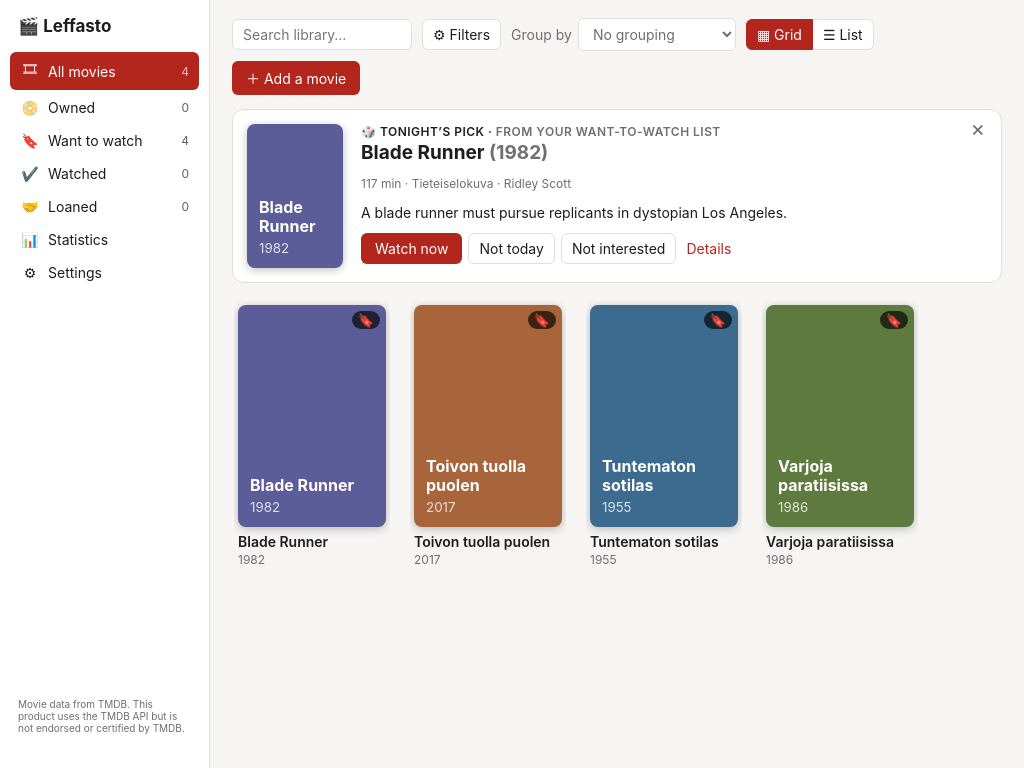
Test case: Tonight's pick › Not interested removes it from the want list; Watch now marks it watched
Click the button "Not interested" at [619, 248], box [561,233,676,264]
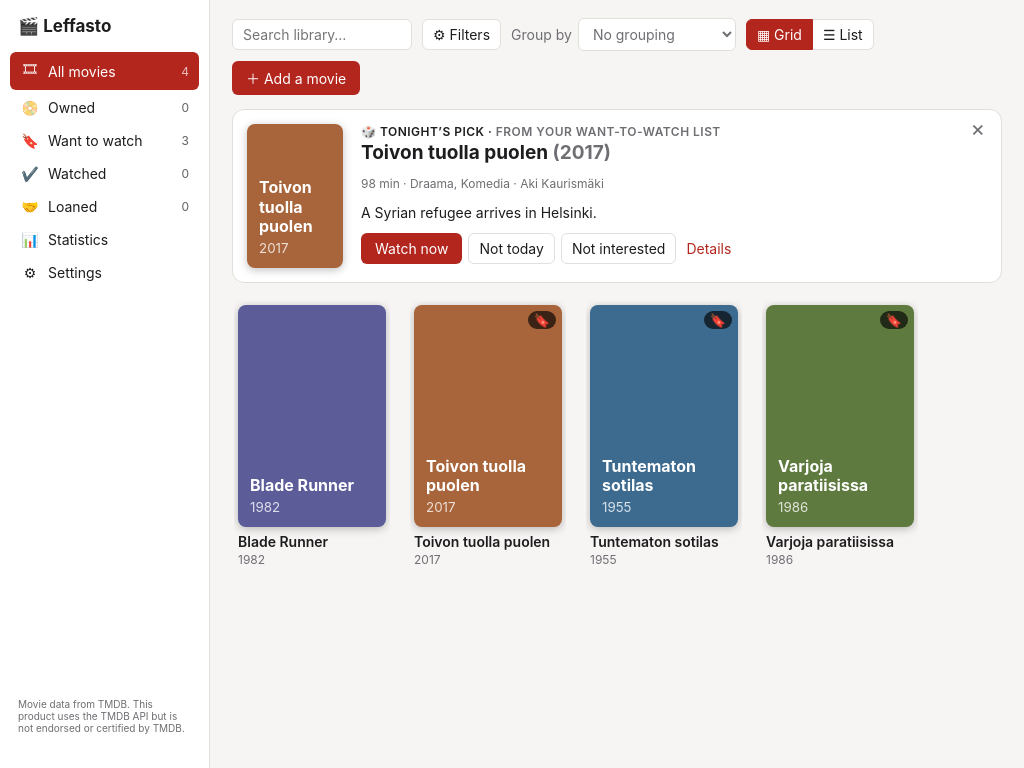
Click the button "Watch now" at [412, 248], box [361,233,462,264]
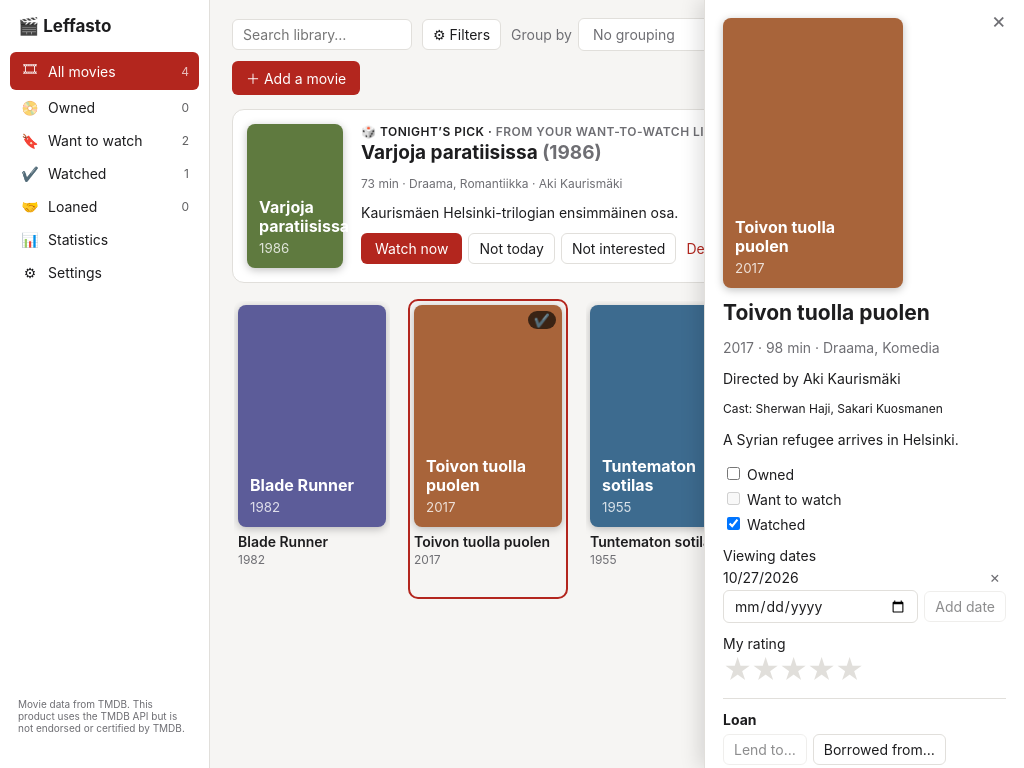
Expected: the element labelled "Toivon tuolla puolen" is shown, [704,0,1023,767]
Expected: the checkbox labelled "Watched" is checked, [727,517,740,530]
